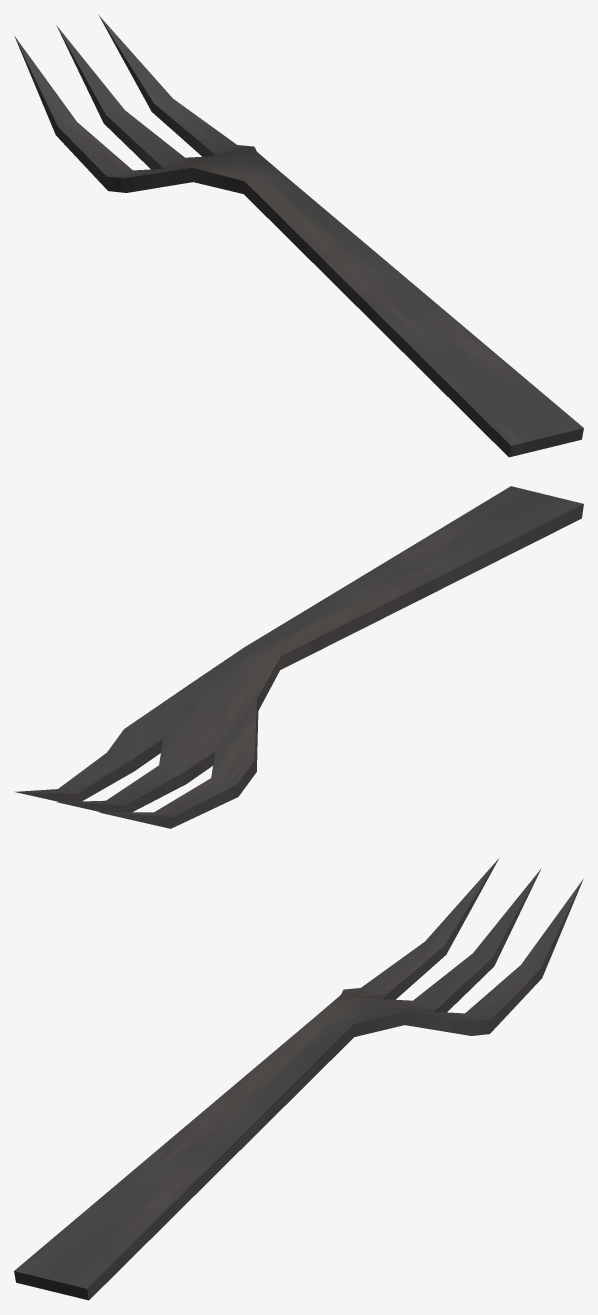
File: Dw_Fork.glb
The picture shows the model from 3 angles, top to bottom: view 1: azimuth 30°, elevation 25°; view 2: azimuth 150°, elevation 25°; view 3: azimuth 330°, elevation 25°; orthographic projection.
Parts seen in each view (by area): view 1: Dw_Fork; view 2: Dw_Fork; view 3: Dw_Fork.
Part boxes in pixels (bbox=[...]): Dw_Fork: bbox=[14, 15, 583, 457]; Dw_Fork: bbox=[15, 486, 583, 828]; Dw_Fork: bbox=[14, 858, 583, 1300].
Bounding box in the file's own units: 0.0352 × 0.0169 × 0.2298.
Materials: 1 (1 with a texture image).
